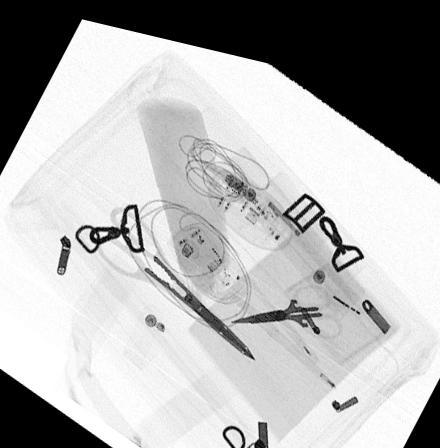Scissors: (96, 198, 258, 349), (229, 267, 345, 326)
